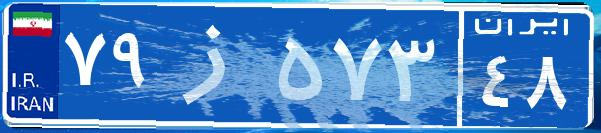3: (385, 28, 445, 110)
4: (475, 38, 525, 113)
5: (273, 28, 330, 110)
7: (330, 28, 385, 110), (57, 26, 110, 107)
8: (525, 38, 570, 115)
9: (110, 28, 158, 105)
ز: (158, 15, 273, 115)
